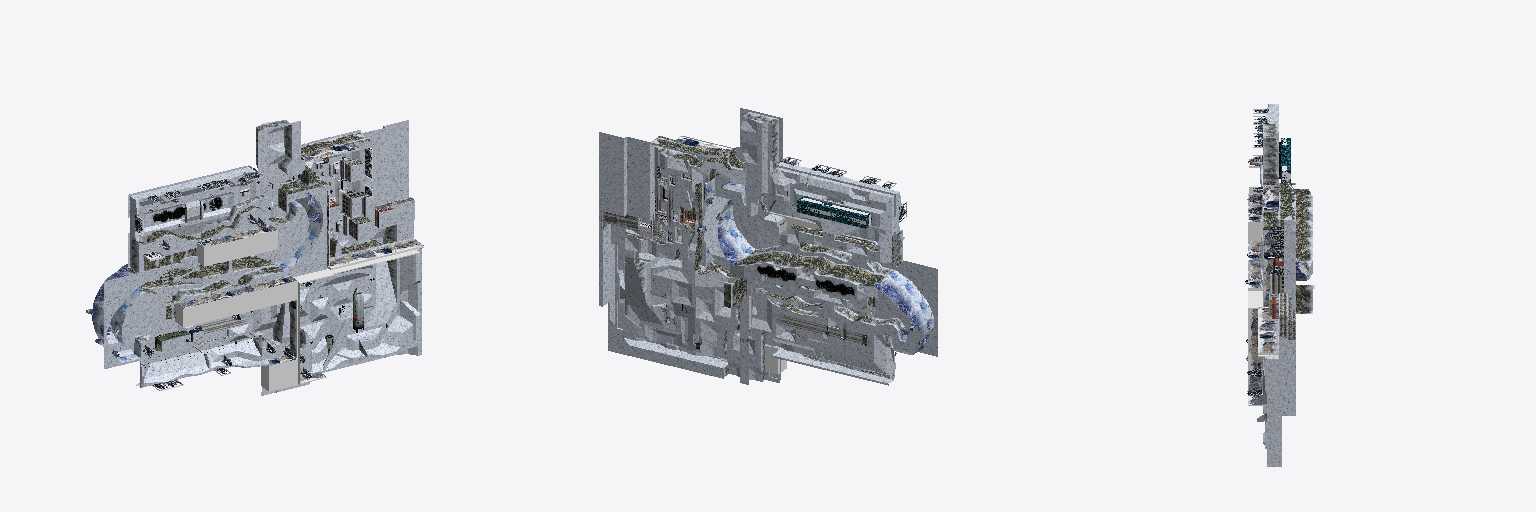
3 renders of one model, left to right at view 1: azimuth 30°, elevation 25°; view 2: azimuth 150°, elevation 25°; view 3: azimuth 270°, elevation 25°, orthographic.
Visible parts, largest first — view 1: BSP_Object.model_0.003, BSP_Object.model_95.002, BSP_Object.model_18.002, BSP_Object.model_1.003, BSP_Object.model_65.002, BSP_Object.model_7.003, BSP_Object.model_94.002; view 2: BSP_Object.model_0.003, BSP_Object.model_34.003; view 3: BSP_Object.model_0.003, BSP_Object.model_65.002, BSP_Object.model_96.002.
Boxes of the visible parts, box(x1,y1,x2,y2) form: BSP_Object.model_0.003: box(92, 120, 421, 395); BSP_Object.model_95.002: box(175, 290, 239, 327); BSP_Object.model_18.002: box(212, 225, 277, 262); BSP_Object.model_1.003: box(233, 275, 297, 313); BSP_Object.model_65.002: box(327, 238, 423, 269); BSP_Object.model_7.003: box(261, 355, 297, 391); BSP_Object.model_94.002: box(367, 197, 414, 229); BSP_Object.model_0.003: box(599, 108, 937, 385); BSP_Object.model_34.003: box(797, 197, 870, 228); BSP_Object.model_0.003: box(1257, 104, 1314, 466); BSP_Object.model_65.002: box(1258, 307, 1278, 354); BSP_Object.model_96.002: box(1248, 291, 1262, 390).
Size of the model in its own units: 141 by 111 by 26.8.
Materials: 84 (79 with a texture image).